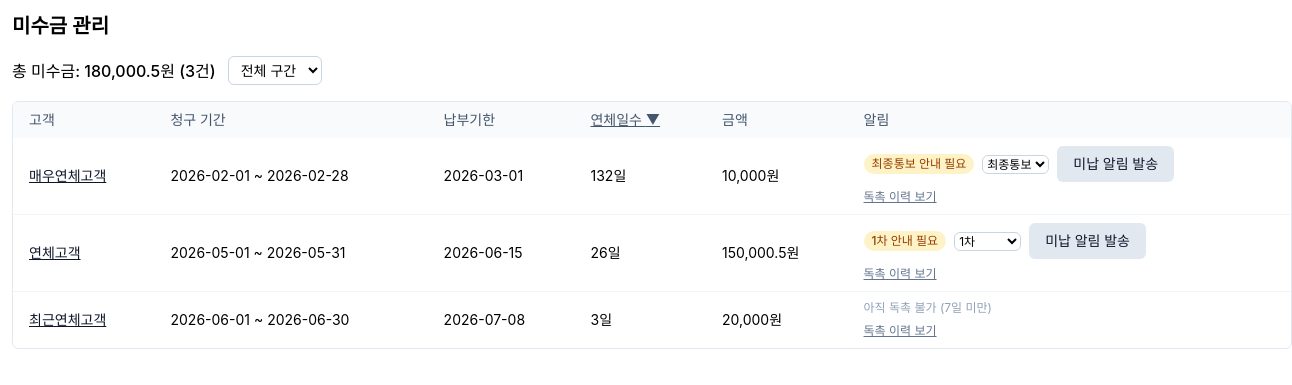
Test case: OverdueInvoicesPage › shows reminder history when toggled
The width and height of the screenshot is (1292, 385).
Expected: the link "연체고객" is shown, [29,244,80,261]
Click the button "독촉 이력 보기" below "1차": (900, 274) [864,266,936,282]
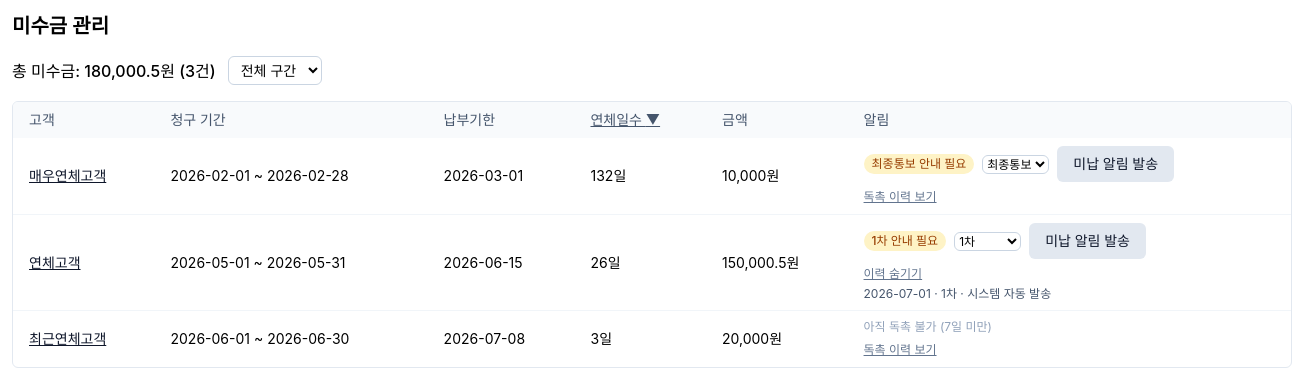
Now the list item "2026-07-01 · 1차 · 시스템 자동 발송" is shown, box [864,286,1051,301]
